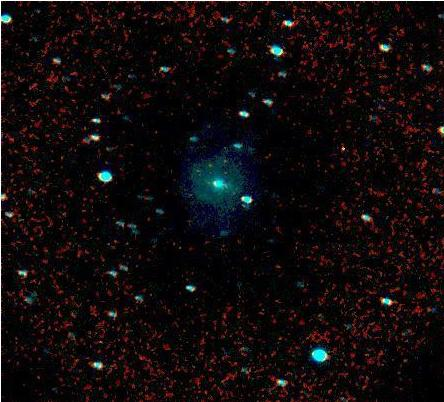star: (194, 149, 224, 179)
